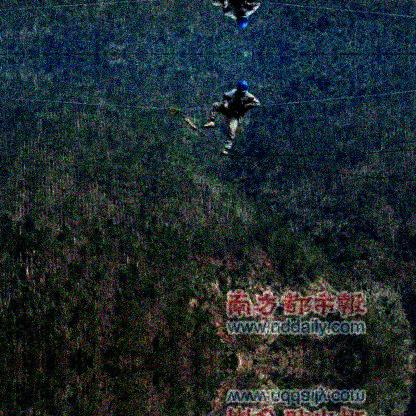helmet: (235, 12, 248, 29), (236, 80, 249, 96)
